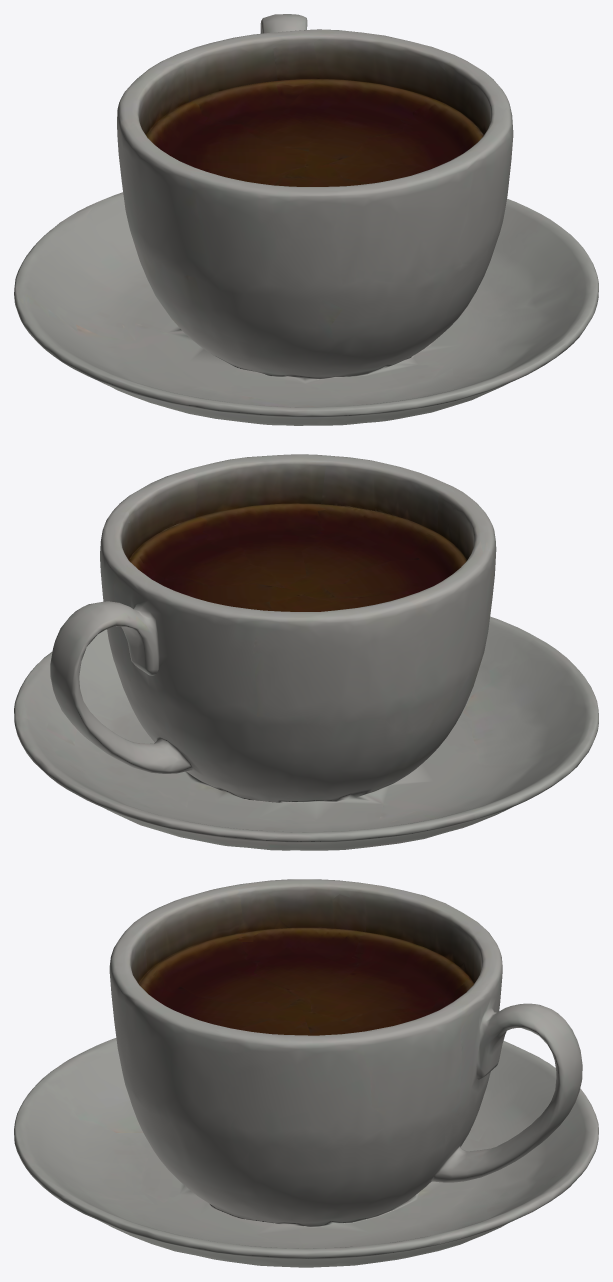
The model's file is emoji-coffee.glb.
3 views of the same model, one above another, from view 1: azimuth 30°, elevation 25°; view 2: azimuth 150°, elevation 25°; view 3: azimuth 270°, elevation 25° (orthographic).
Visible parts, largest first — view 1: emoji-coffee; view 2: emoji-coffee; view 3: emoji-coffee.
Boxes of the visible parts, x1,y1,x2,y2 form: emoji-coffee: (14,14,598,425); emoji-coffee: (14,454,598,850); emoji-coffee: (14,879,598,1267).
Bounding box in the file's own units: 0.9784 × 0.4143 × 0.9794.
Materials: 1 (1 with a texture image).
